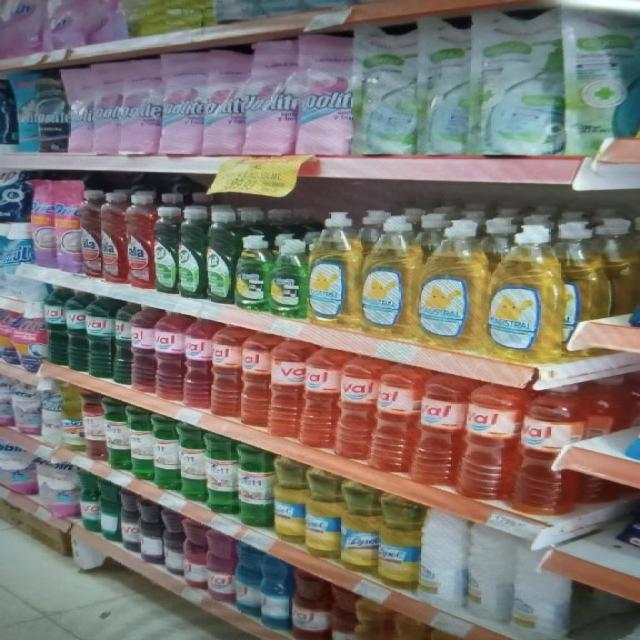ala_conc_rojo: (126, 193, 153, 290), (101, 191, 125, 284)
cif_conc_botella_verde: (206, 208, 234, 303), (178, 206, 204, 298), (154, 202, 177, 294)
magistral_con_amarillo: (487, 218, 562, 363), (418, 215, 484, 351), (361, 213, 416, 338), (310, 210, 358, 329)
